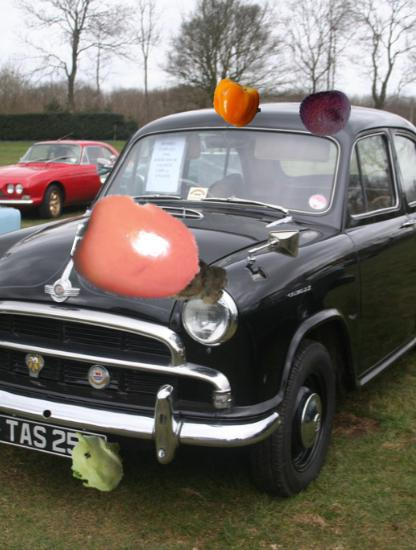Ginger: (128, 224, 230, 326)
Kaki: (74, 186, 204, 316)
Kohlrabi: (61, 425, 132, 496)
Pepper: (212, 78, 263, 129)
Salak: (299, 88, 352, 141)
